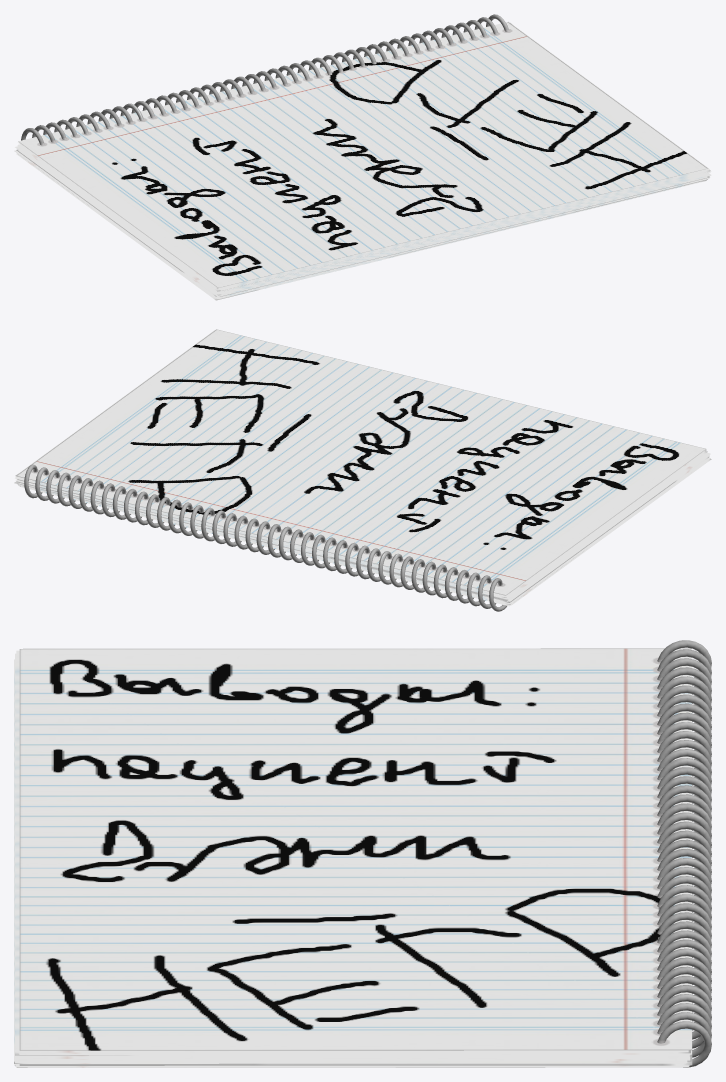
File: doctor_notes.glb
3 renders of one model, top to bottom at view 1: azimuth 30°, elevation 25°; view 2: azimuth 150°, elevation 25°; view 3: azimuth 270°, elevation 25°, orthographic. The views are drawn at different scales.
Parts seen in each view (by area): view 1: SM_notebook_papers.109_5, SM_spirals_main.003_0, SM_notebook_papers.119_15, SM_notebook_papers.125_21, SM_notebook_papers.110_6, SM_notebook_papers.105_1, SM_notebook_papers.138_34, SM_notebook_papers.111_7, SM_notebook_papers.121_17, SM_notebook_papers.118_14, SM_notebook_papers.115_11, SM_notebook_papers.117_13 (+4 smaller); view 2: SM_notebook_papers.109_5, SM_spirals_main.003_0, SM_notebook_papers.117_13, SM_notebook_papers.119_15, SM_notebook_papers.112_8, SM_notebook_papers.127_23, SM_notebook_papers.131_27, SM_notebook_papers.126_22, SM_notebook_papers.106_2, SM_notebook_papers.107_3, SM_notebook_papers.137_33, SM_notebook_papers.108_4 (+3 smaller); view 3: SM_notebook_papers.109_5, SM_spirals_main.003_0, SM_notebook_papers.110_6, SM_notebook_papers.115_11, SM_notebook_papers.118_14, SM_notebook_papers.134_30, SM_notebook_papers.111_7, SM_notebook_papers.120_16, SM_notebook_papers.106_2, SM_notebook_papers.108_4, SM_notebook_papers.129_25, SM_notebook_papers.136_32 (+4 smaller).
Part boxes in pixels (box(x1,y1,x2,y2)): SM_notebook_papers.109_5: box(18, 22, 707, 287); SM_spirals_main.003_0: box(21, 14, 509, 145); SM_notebook_papers.119_15: box(15, 146, 704, 293); SM_notebook_papers.125_21: box(18, 150, 707, 296); SM_notebook_papers.110_6: box(27, 148, 709, 289); SM_notebook_papers.105_1: box(16, 153, 705, 300); SM_notebook_papers.138_34: box(217, 178, 708, 298); SM_notebook_papers.111_7: box(220, 170, 710, 290); SM_notebook_papers.121_17: box(216, 173, 706, 294); SM_notebook_papers.118_14: box(220, 173, 710, 294); SM_notebook_papers.115_11: box(220, 171, 710, 291); SM_notebook_papers.117_13: box(18, 144, 220, 291); SM_notebook_papers.109_5: box(16, 329, 706, 595); SM_spirals_main.003_0: box(24, 464, 506, 611); SM_notebook_papers.117_13: box(18, 451, 707, 597); SM_notebook_papers.119_15: box(508, 453, 710, 599); SM_notebook_papers.112_8: box(17, 453, 706, 599); SM_notebook_papers.127_23: box(19, 456, 709, 602); SM_notebook_papers.131_27: box(20, 457, 710, 604); SM_notebook_papers.126_22: box(17, 480, 508, 600); SM_notebook_papers.106_2: box(15, 329, 505, 595); SM_notebook_papers.107_3: box(17, 450, 706, 596); SM_notebook_papers.137_33: box(19, 486, 510, 606); SM_notebook_papers.108_4: box(15, 476, 505, 596); SM_notebook_papers.109_5: box(19, 648, 691, 1050); SM_spirals_main.003_0: box(657, 640, 711, 1067); SM_notebook_papers.110_6: box(16, 650, 688, 1052); SM_notebook_papers.115_11: box(17, 1055, 689, 1058); SM_notebook_papers.118_14: box(14, 659, 686, 1061); SM_notebook_papers.134_30: box(19, 1056, 692, 1065); SM_notebook_papers.111_7: box(15, 653, 686, 1055); SM_notebook_papers.120_16: box(15, 1061, 687, 1063); SM_notebook_papers.106_2: box(18, 1050, 690, 1053); SM_notebook_papers.108_4: box(19, 1052, 691, 1054); SM_notebook_papers.129_25: box(17, 1064, 689, 1066); SM_notebook_papers.136_32: box(16, 1066, 687, 1067).
Bounding box in the file's own units: 0.3008 × 0.0172 × 0.218.
1 material, 1 textured.
